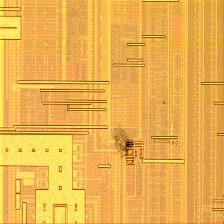PIQ PARTICLE: (109, 129, 141, 161)
